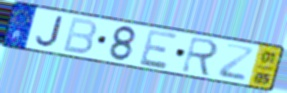8: (107, 24, 139, 63)
B: (61, 16, 99, 56)
E: (138, 28, 181, 71)
J: (34, 15, 64, 48)
R: (179, 35, 221, 78)
Z: (216, 42, 257, 83)
